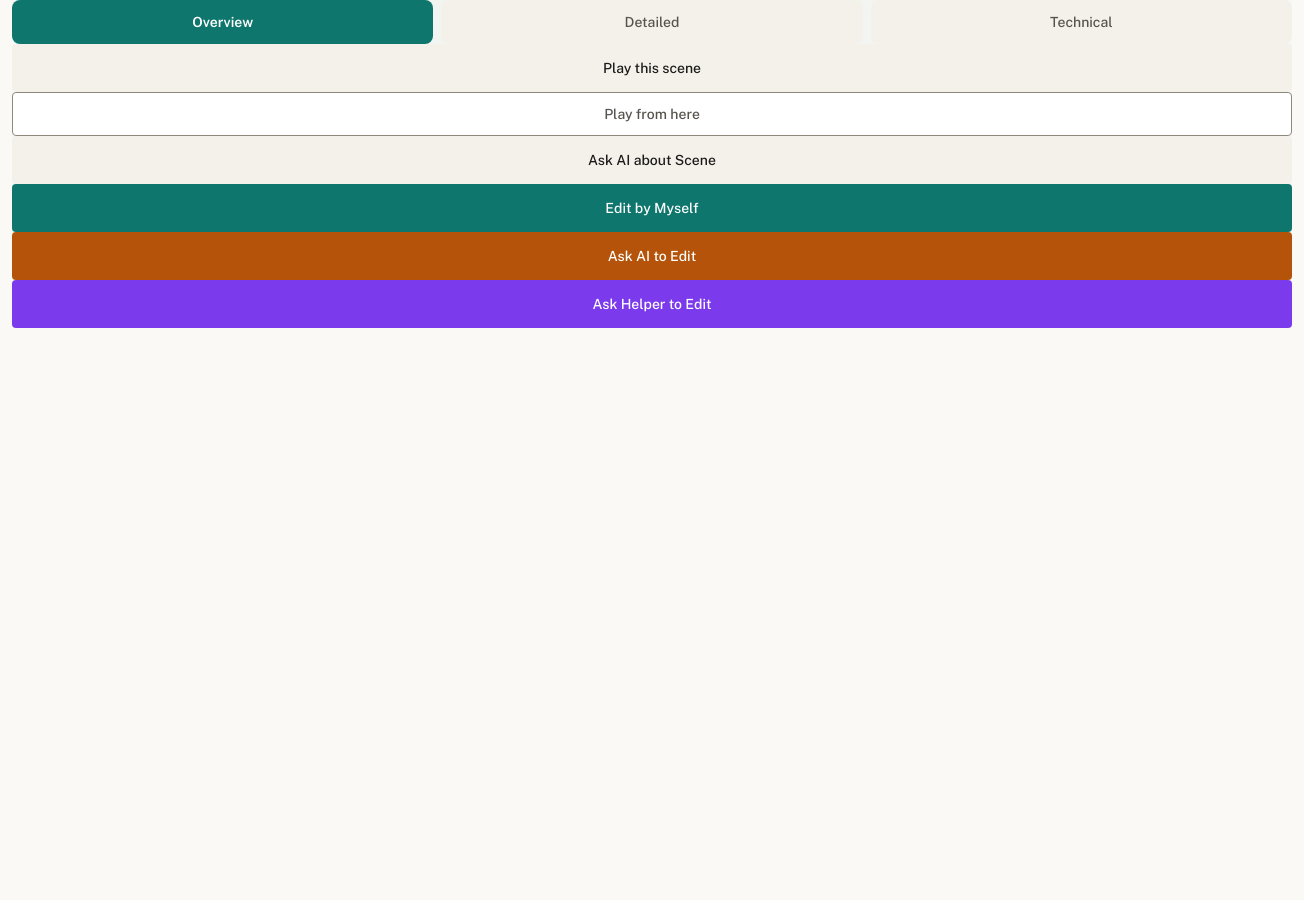
Test case: SceneActions — edit by myself › the Trim button reads "Trim here" with an explanation + clip-count line
Click the button "Edit by Myself".
click(652, 208)  # box [12,184,1292,232]
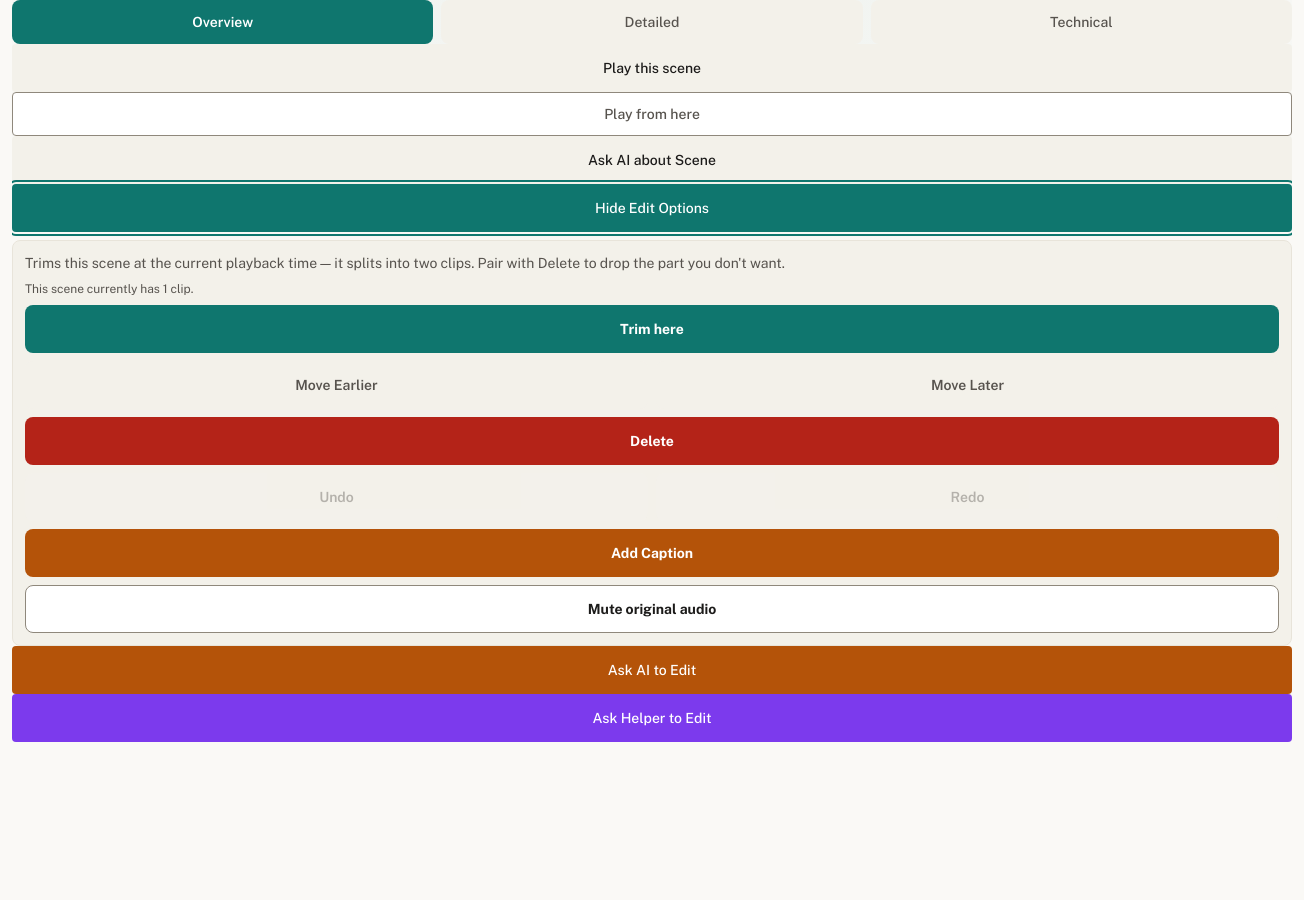
Expected: the button named "trim this scene at the current position — splits it into two clips" reads "Trim here", [25,305,1279,353]
Expected: the text "it splits into two clips" is shown, [25,255,785,271]
Expected: the text "This scene currently has 1 clip." is shown, [25,282,193,296]
